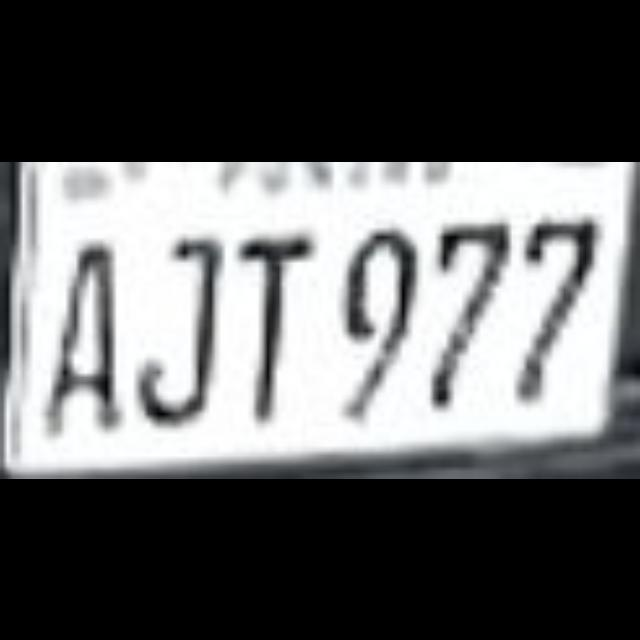7: (520, 213, 620, 432), (422, 213, 520, 432)
9: (322, 213, 422, 432)
A: (26, 213, 124, 432)
J: (124, 213, 223, 432)
T: (224, 213, 322, 432)
